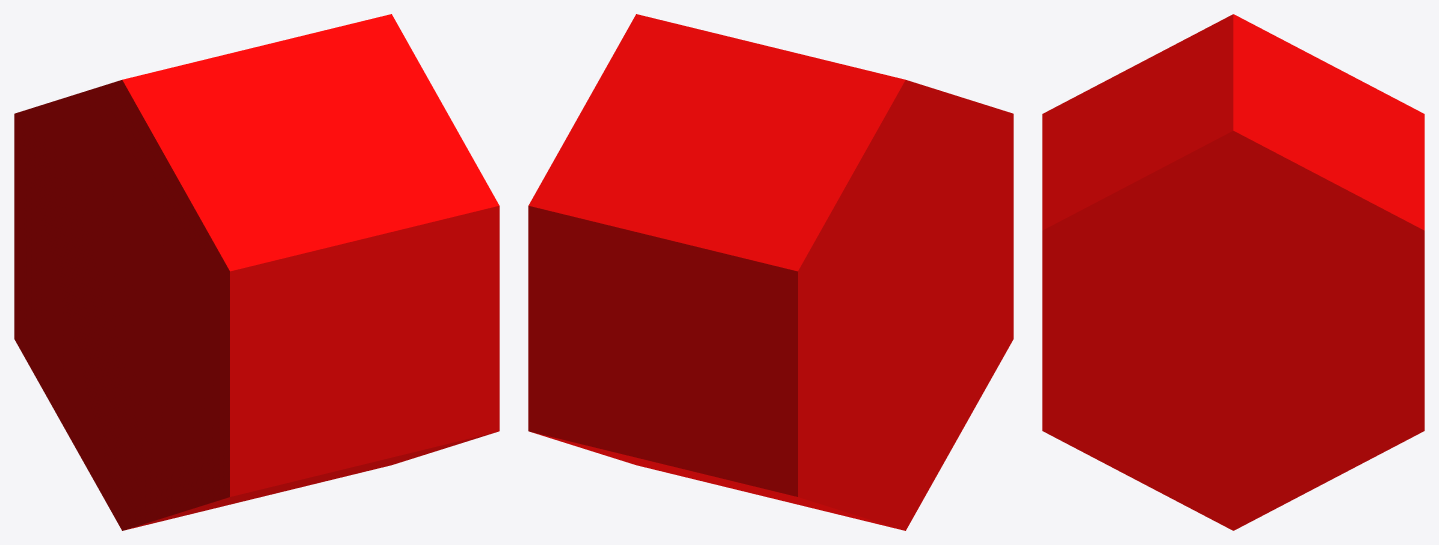
Rendered from minigun_stator.glb.
The picture shows the model from 3 angles, left to right: view 1: azimuth 30°, elevation 25°; view 2: azimuth 150°, elevation 25°; view 3: azimuth 270°, elevation 25°; orthographic projection. The views are drawn at different scales.
Parts seen in each view (by area): view 1: Cylinder.009; view 2: Cylinder.009; view 3: Cylinder.009.
Boxes of the visible parts, left/top/right/bottom form: Cylinder.009: left=14, top=14, right=499, bottom=530; Cylinder.009: left=528, top=14, right=1013, bottom=530; Cylinder.009: left=1042, top=14, right=1424, bottom=530.
Size of the model in its own units: 0.5 by 0.8 by 0.6928.
